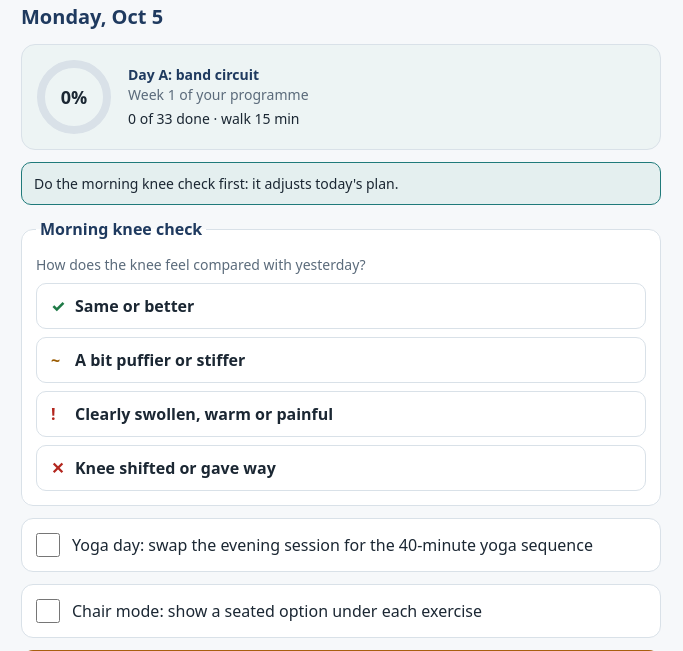
Scenario: Today › yoga toggle swaps evening
Click the checkbox labelled "Yoga day" at x=48, y=545, box [36,533,60,557]
(page scrolled)
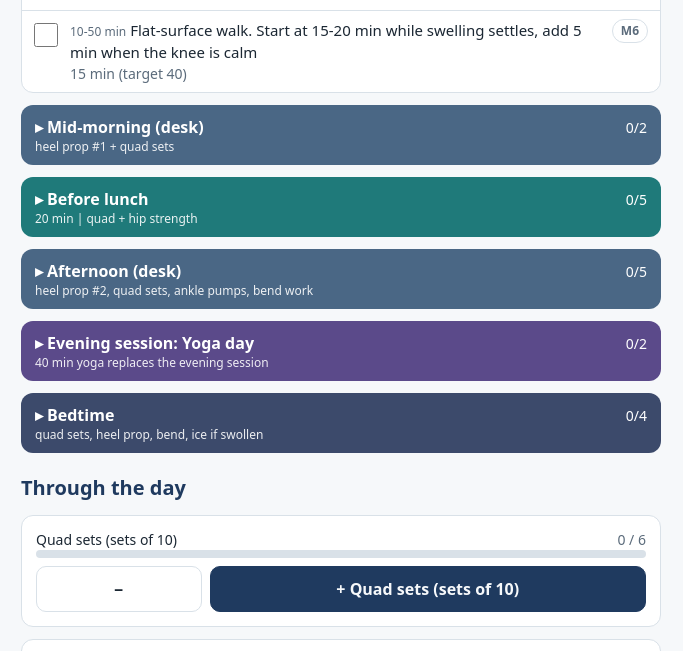
Click the button "Evening session" at x=151, y=342, box [21,320,661,380]
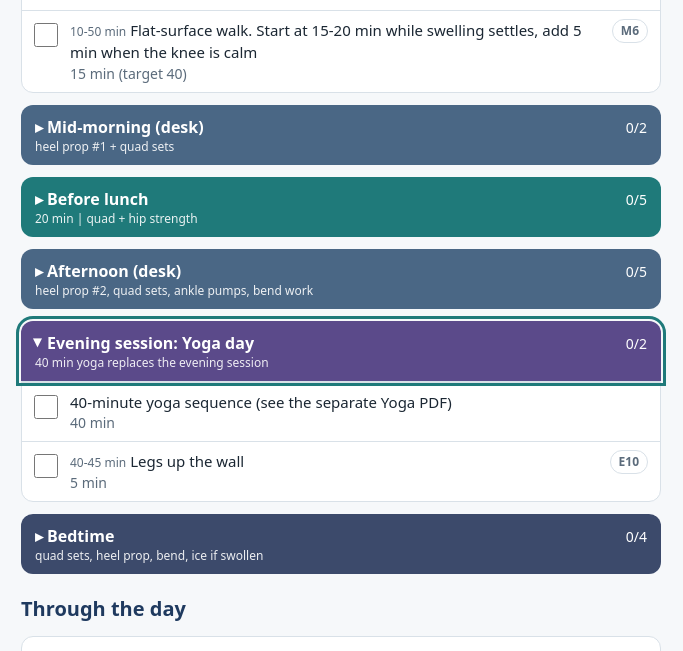
Expected: the checkbox labelled "40-minute yoga sequence (see the separate Yoga PDF) 40 min" is shown, [34,394,58,418]
